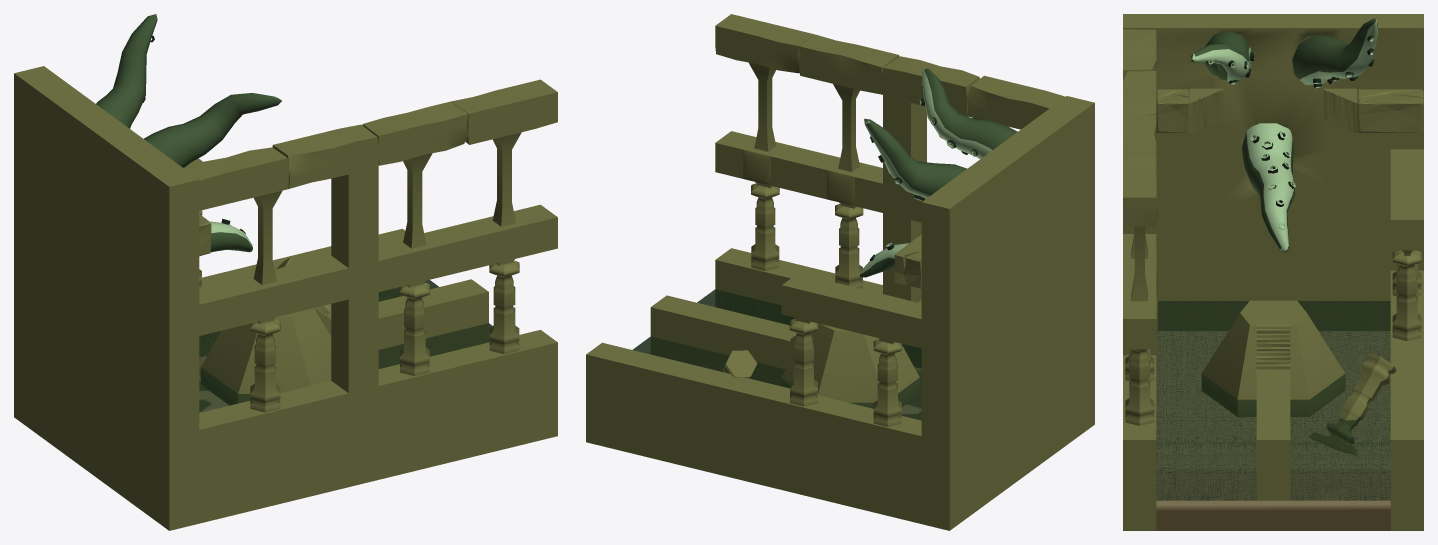
File: ellora_env.fbx
3 views of the same model, side by side, from view 1: azimuth 30°, elevation 25°; view 2: azimuth 150°, elevation 25°; view 3: azimuth 270°, elevation 25° (orthographic). The views are drawn at different scales.
Parts seen in each view (by area): view 1: env, tentacle, water; view 2: env, tentacle, water; view 3: env, water, ground, tentacle.
Part boxes in pixels (left/top/right/bottom): env: left=14, top=66, right=557, bottom=530; tentacle: left=96, top=14, right=281, bottom=256; water: left=199, top=280, right=492, bottom=412; env: left=586, top=14, right=1094, bottom=530; tentacle: left=859, top=68, right=1017, bottom=277; water: left=632, top=289, right=921, bottom=420; env: left=1123, top=14, right=1423, bottom=530; water: left=1156, top=301, right=1390, bottom=500; ground: left=1156, top=331, right=1390, bottom=530; tentacle: left=1190, top=18, right=1378, bottom=252.
Size of the model in its own units: 13 by 12.58 by 9.
